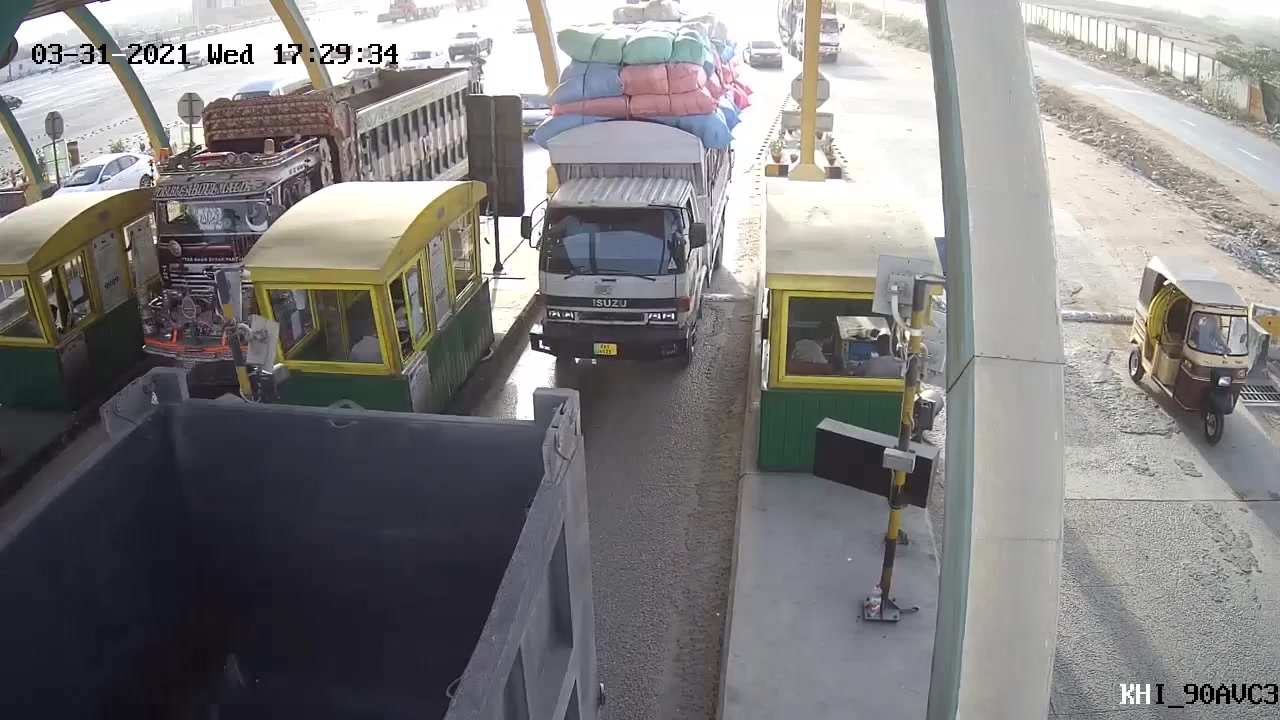F5: (524, 21, 737, 375)
